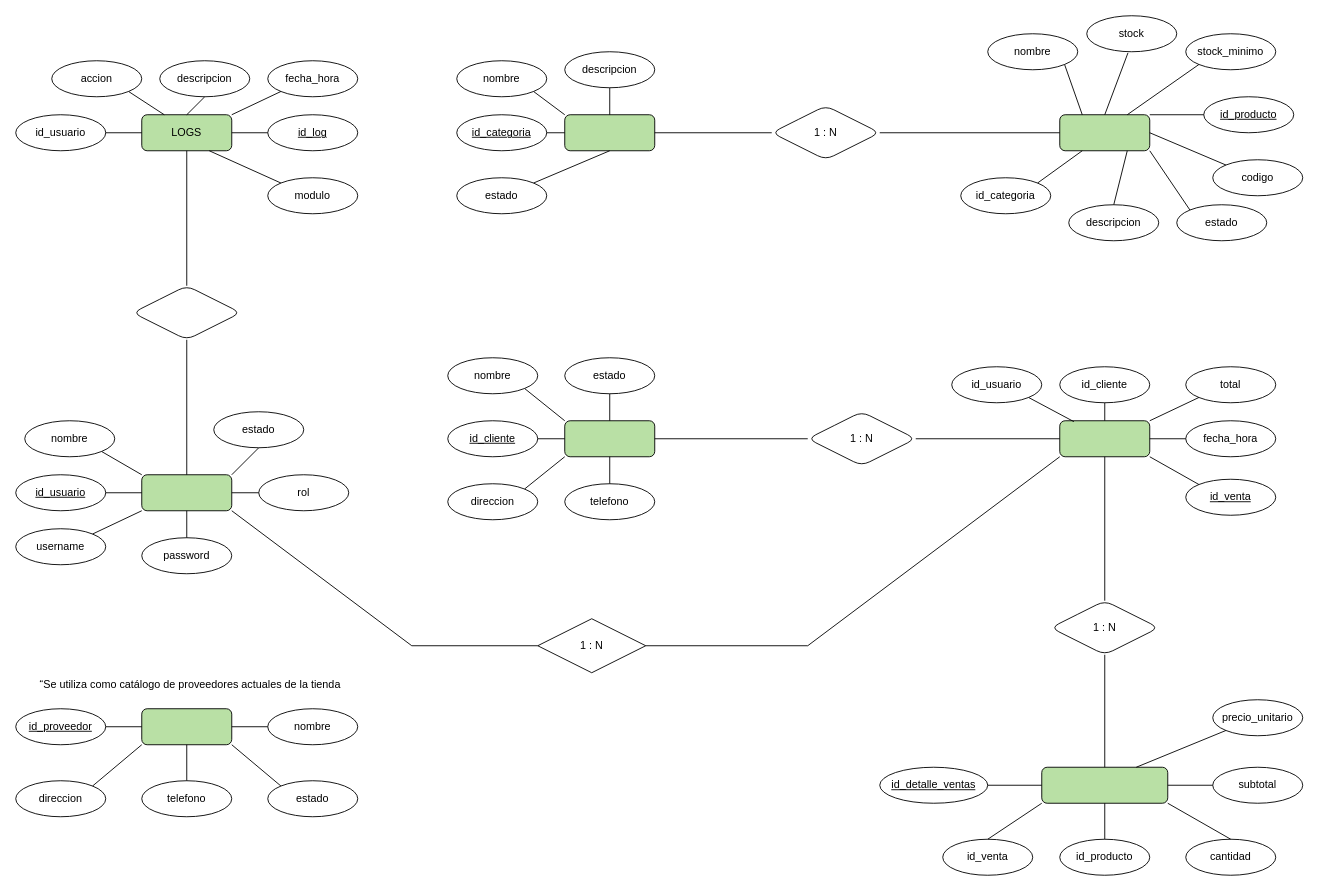
Image size: 1319x891. Some labels were removed from this diagram. Here are the shapes that lost their labels. From the top down, the centre of each, then its label:
At (x=609, y=132): "CATEGORIAS".
At (x=1104, y=132): "PRODUCTOS".
At (x=186, y=312): "N : 1".
At (x=609, y=438): "CLIENTES".
At (x=1104, y=438): "VENTAS".
At (x=186, y=492): "USUARIOS".
At (x=186, y=726): "PROVEEDORES".
At (x=1104, y=784): "DETALLE_VENTAS".
